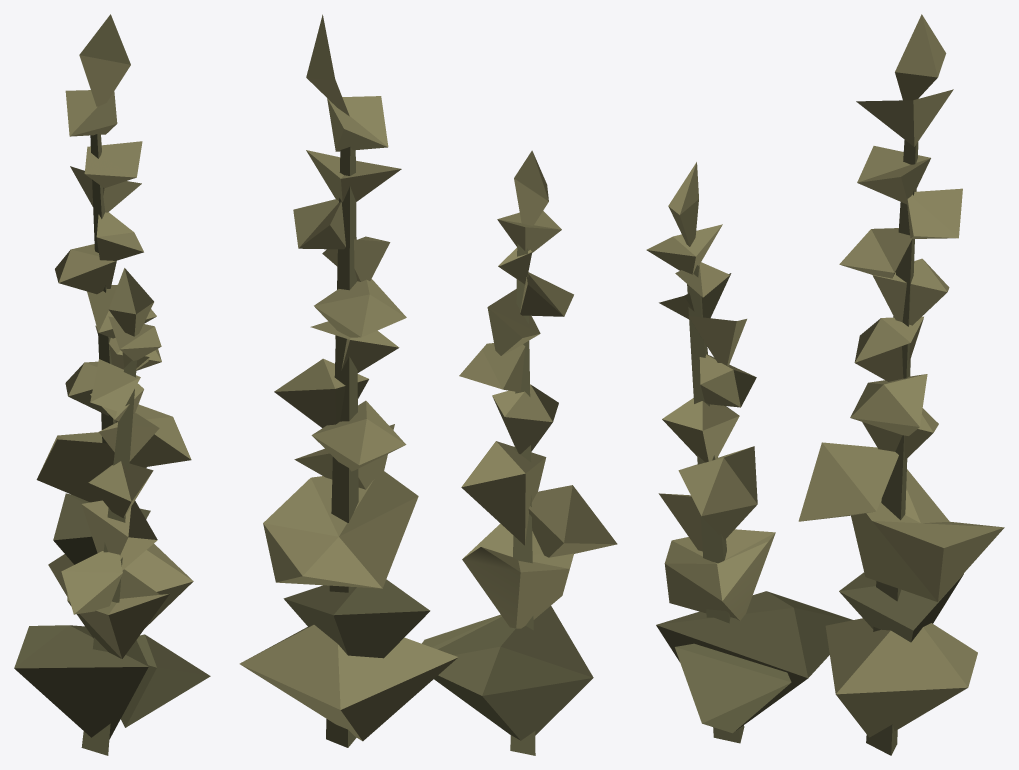
File: SM_Env_Plant_Tall_02.glb
3 views of the same model, side by side, from view 1: azimuth 30°, elevation 25°; view 2: azimuth 150°, elevation 25°; view 3: azimuth 270°, elevation 25° (orthographic). The views are drawn at different scales.
Parts seen in each view (by area): view 1: SM_Env_Plant_Tall_02; view 2: SM_Env_Plant_Tall_02; view 3: SM_Env_Plant_Tall_02.
Part boxes in pixels (x1,y1,x2,y2): SM_Env_Plant_Tall_02: [14, 14, 210, 755]; SM_Env_Plant_Tall_02: [239, 14, 617, 755]; SM_Env_Plant_Tall_02: [646, 14, 1004, 755].
Bounding box in the file's own units: 0.5236 × 1.54 × 0.6456.
1 material, 1 textured.
